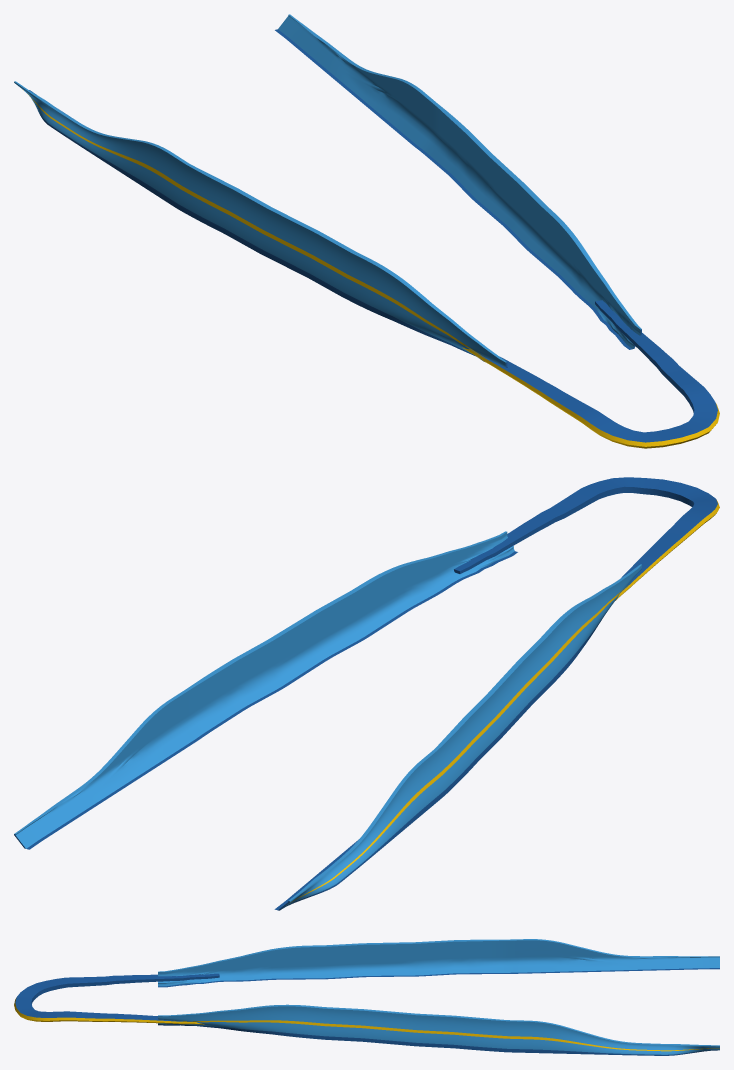
The model's file is strix_armor_light.fbx.
3 renders of one model, top to bottom at view 1: azimuth 30°, elevation 25°; view 2: azimuth 150°, elevation 25°; view 3: azimuth 270°, elevation 25°, orthographic. The views are drawn at different scales.
Parts seen in each view (by area): view 1: Armor_Light; view 2: Armor_Light; view 3: Armor_Light.
Boxes of the visible parts, box(x1,y1,x2,y2) form: Armor_Light: box(14, 14, 719, 448); Armor_Light: box(14, 477, 719, 910); Armor_Light: box(14, 939, 719, 1055).
Size of the model in its own units: 117 by 18.97 by 372.
